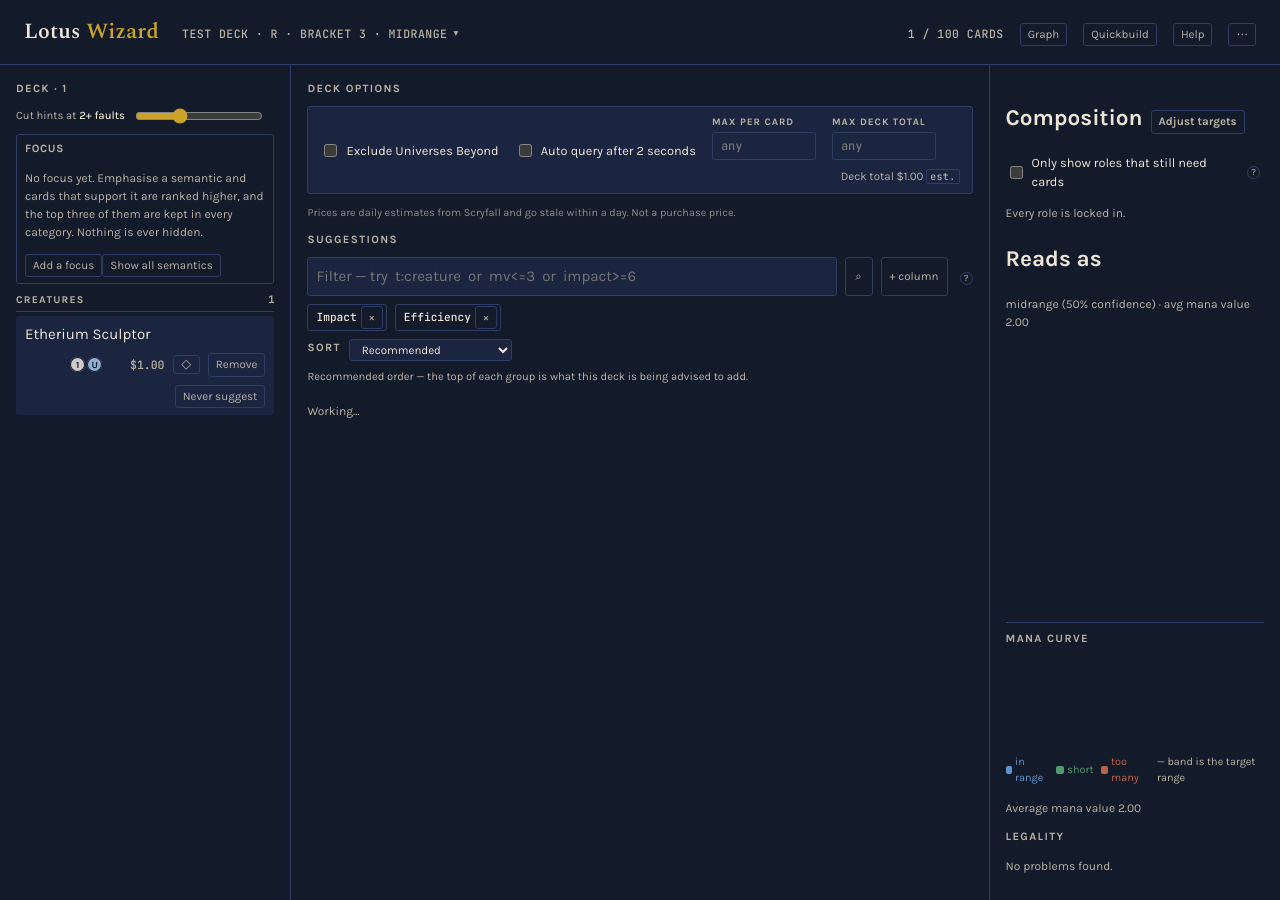
Test: the two directions are named in plain words › says "Causes" and "Benefits from"
Click the button with aria-label "Preview Etherium Sculptor": (145, 334) [25,323,266,345]
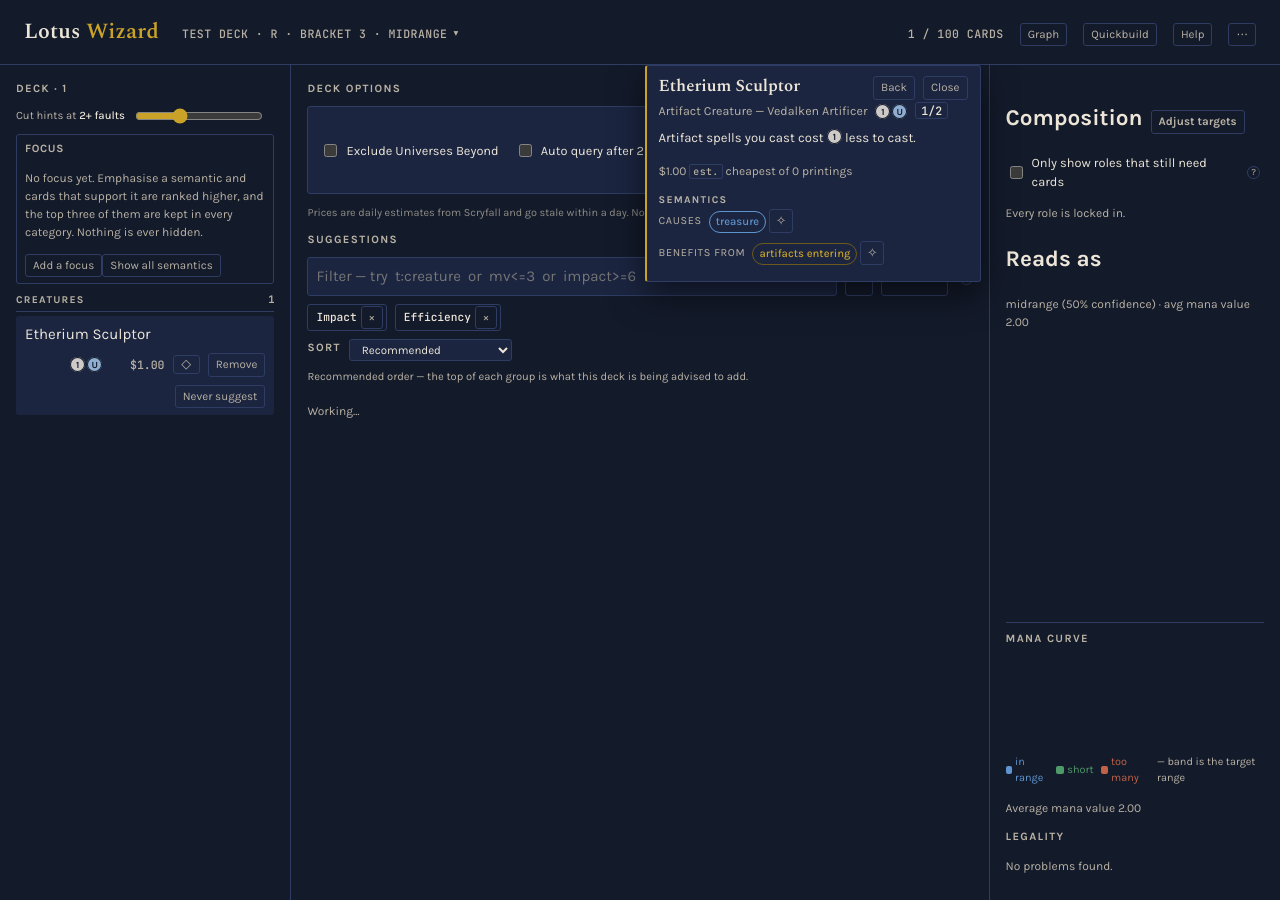
Expected: the heading "Semantics" is shown, [658,193,727,206]
Expected: the text "Causes" is shown, [658,213,702,229]
Expected: the text "Benefits from" is shown, [658,245,745,261]
